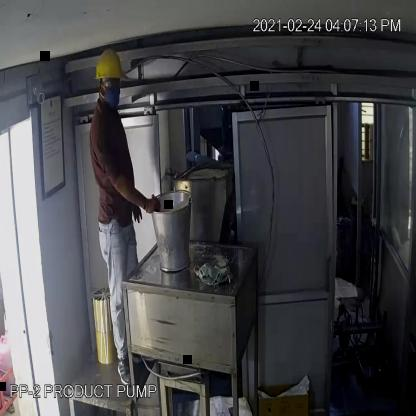helmet: (92, 42, 126, 90)
